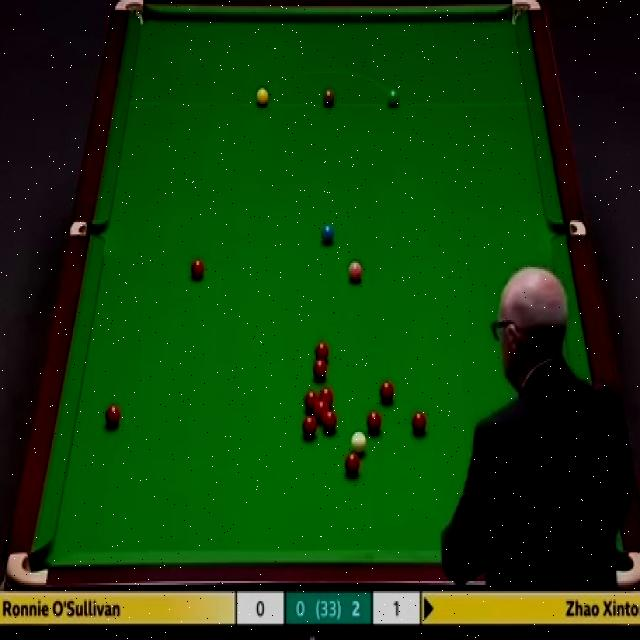blue-ball: (320, 222, 334, 248)
brown-ball: (322, 87, 335, 107)
green-ball: (387, 88, 400, 107)
pink-ball: (347, 260, 363, 284)
red-ball: (409, 410, 429, 438), (378, 377, 394, 407), (366, 409, 382, 439), (344, 450, 359, 479), (105, 403, 120, 430), (318, 386, 334, 410), (312, 359, 328, 383), (302, 416, 317, 440), (305, 389, 319, 414), (191, 257, 205, 282), (322, 410, 337, 433), (315, 341, 330, 362), (316, 401, 330, 422)
white-ball: (350, 431, 368, 457)
yellow-ball: (255, 87, 269, 107)
